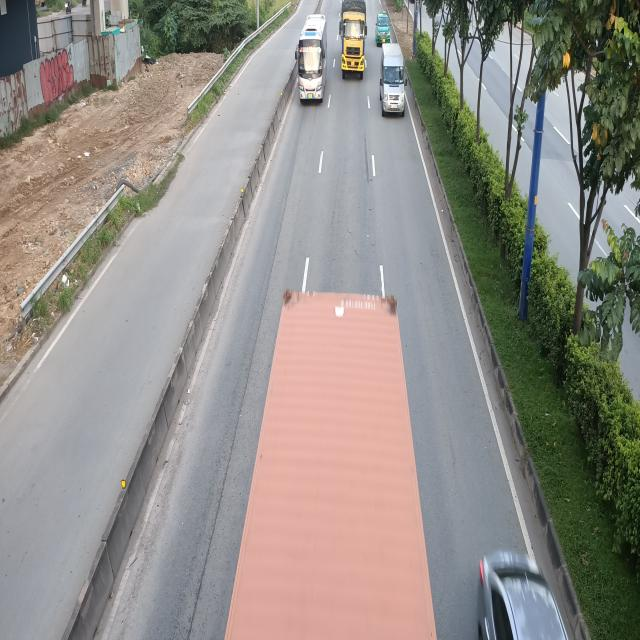coach: (294, 11, 326, 102)
container: (199, 291, 445, 640)
truck: (341, 0, 370, 74)
van: (378, 44, 407, 117)
